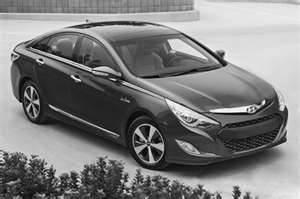car: (10, 21, 289, 170)
